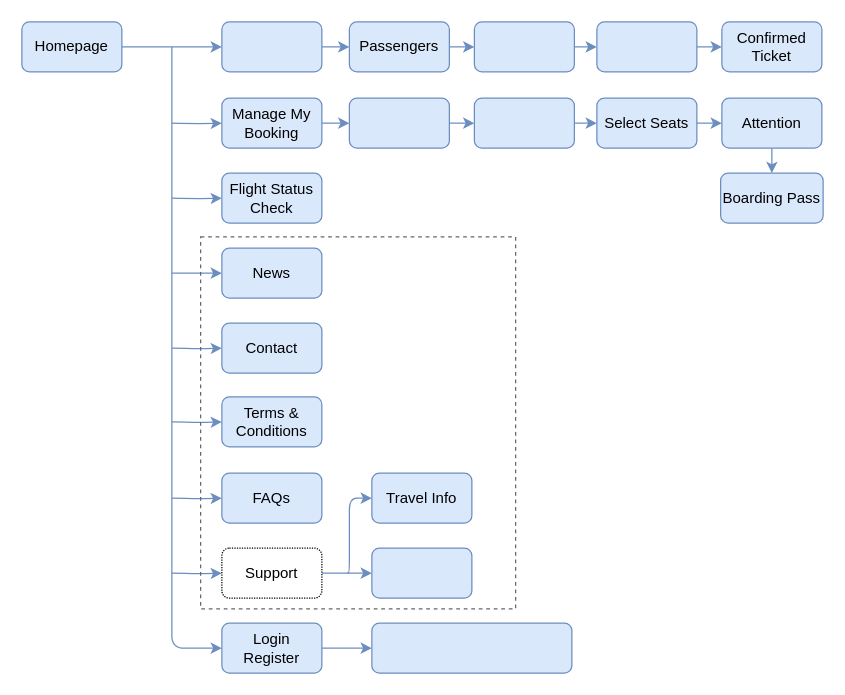
This 845x695 diagram has some shape labels left out. Here are the shapes that lost their labels. From the top down, the centre of each, then its label:
pixel 271 46: Flights
pixel 523 46: Add-ons
pixel 646 46: Payment
pixel 398 122: Select Flight
pixel 523 122: Select Pax
pixel 421 572: Feedback
pixel 471 647: View - Update Account Detail | Register
